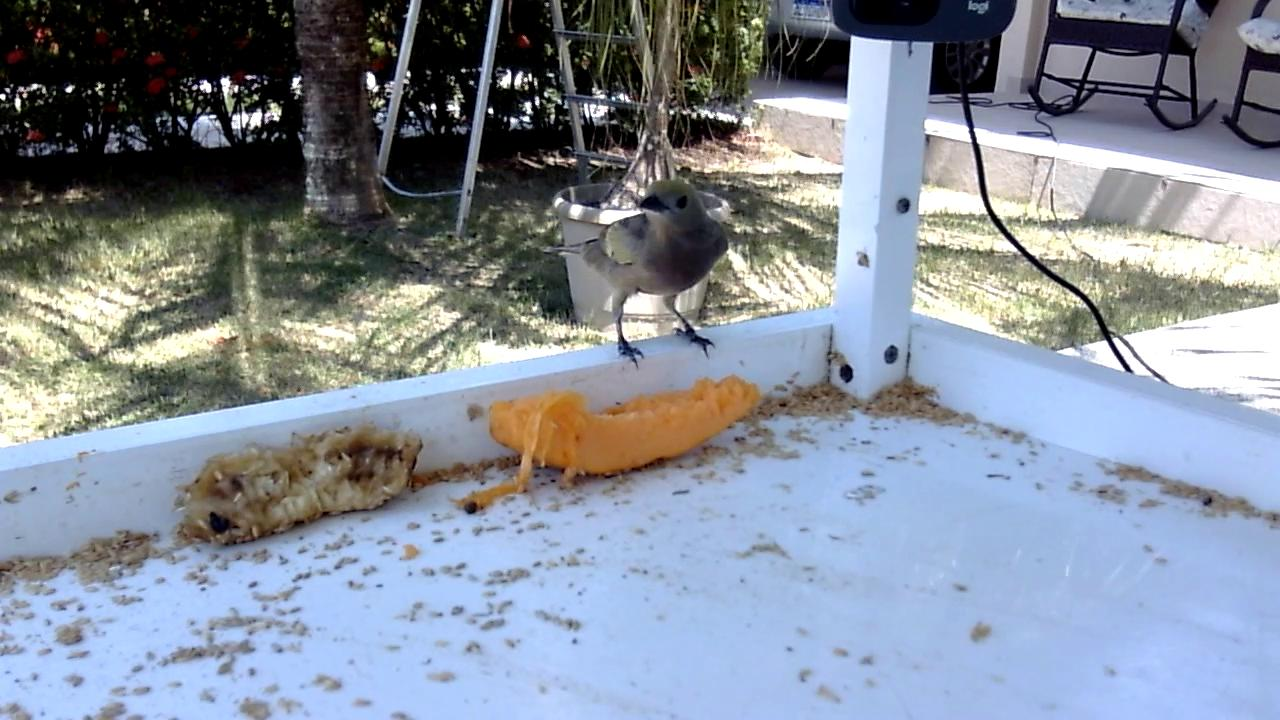sanhaco_do_coqueiro: (548, 177, 736, 374)
